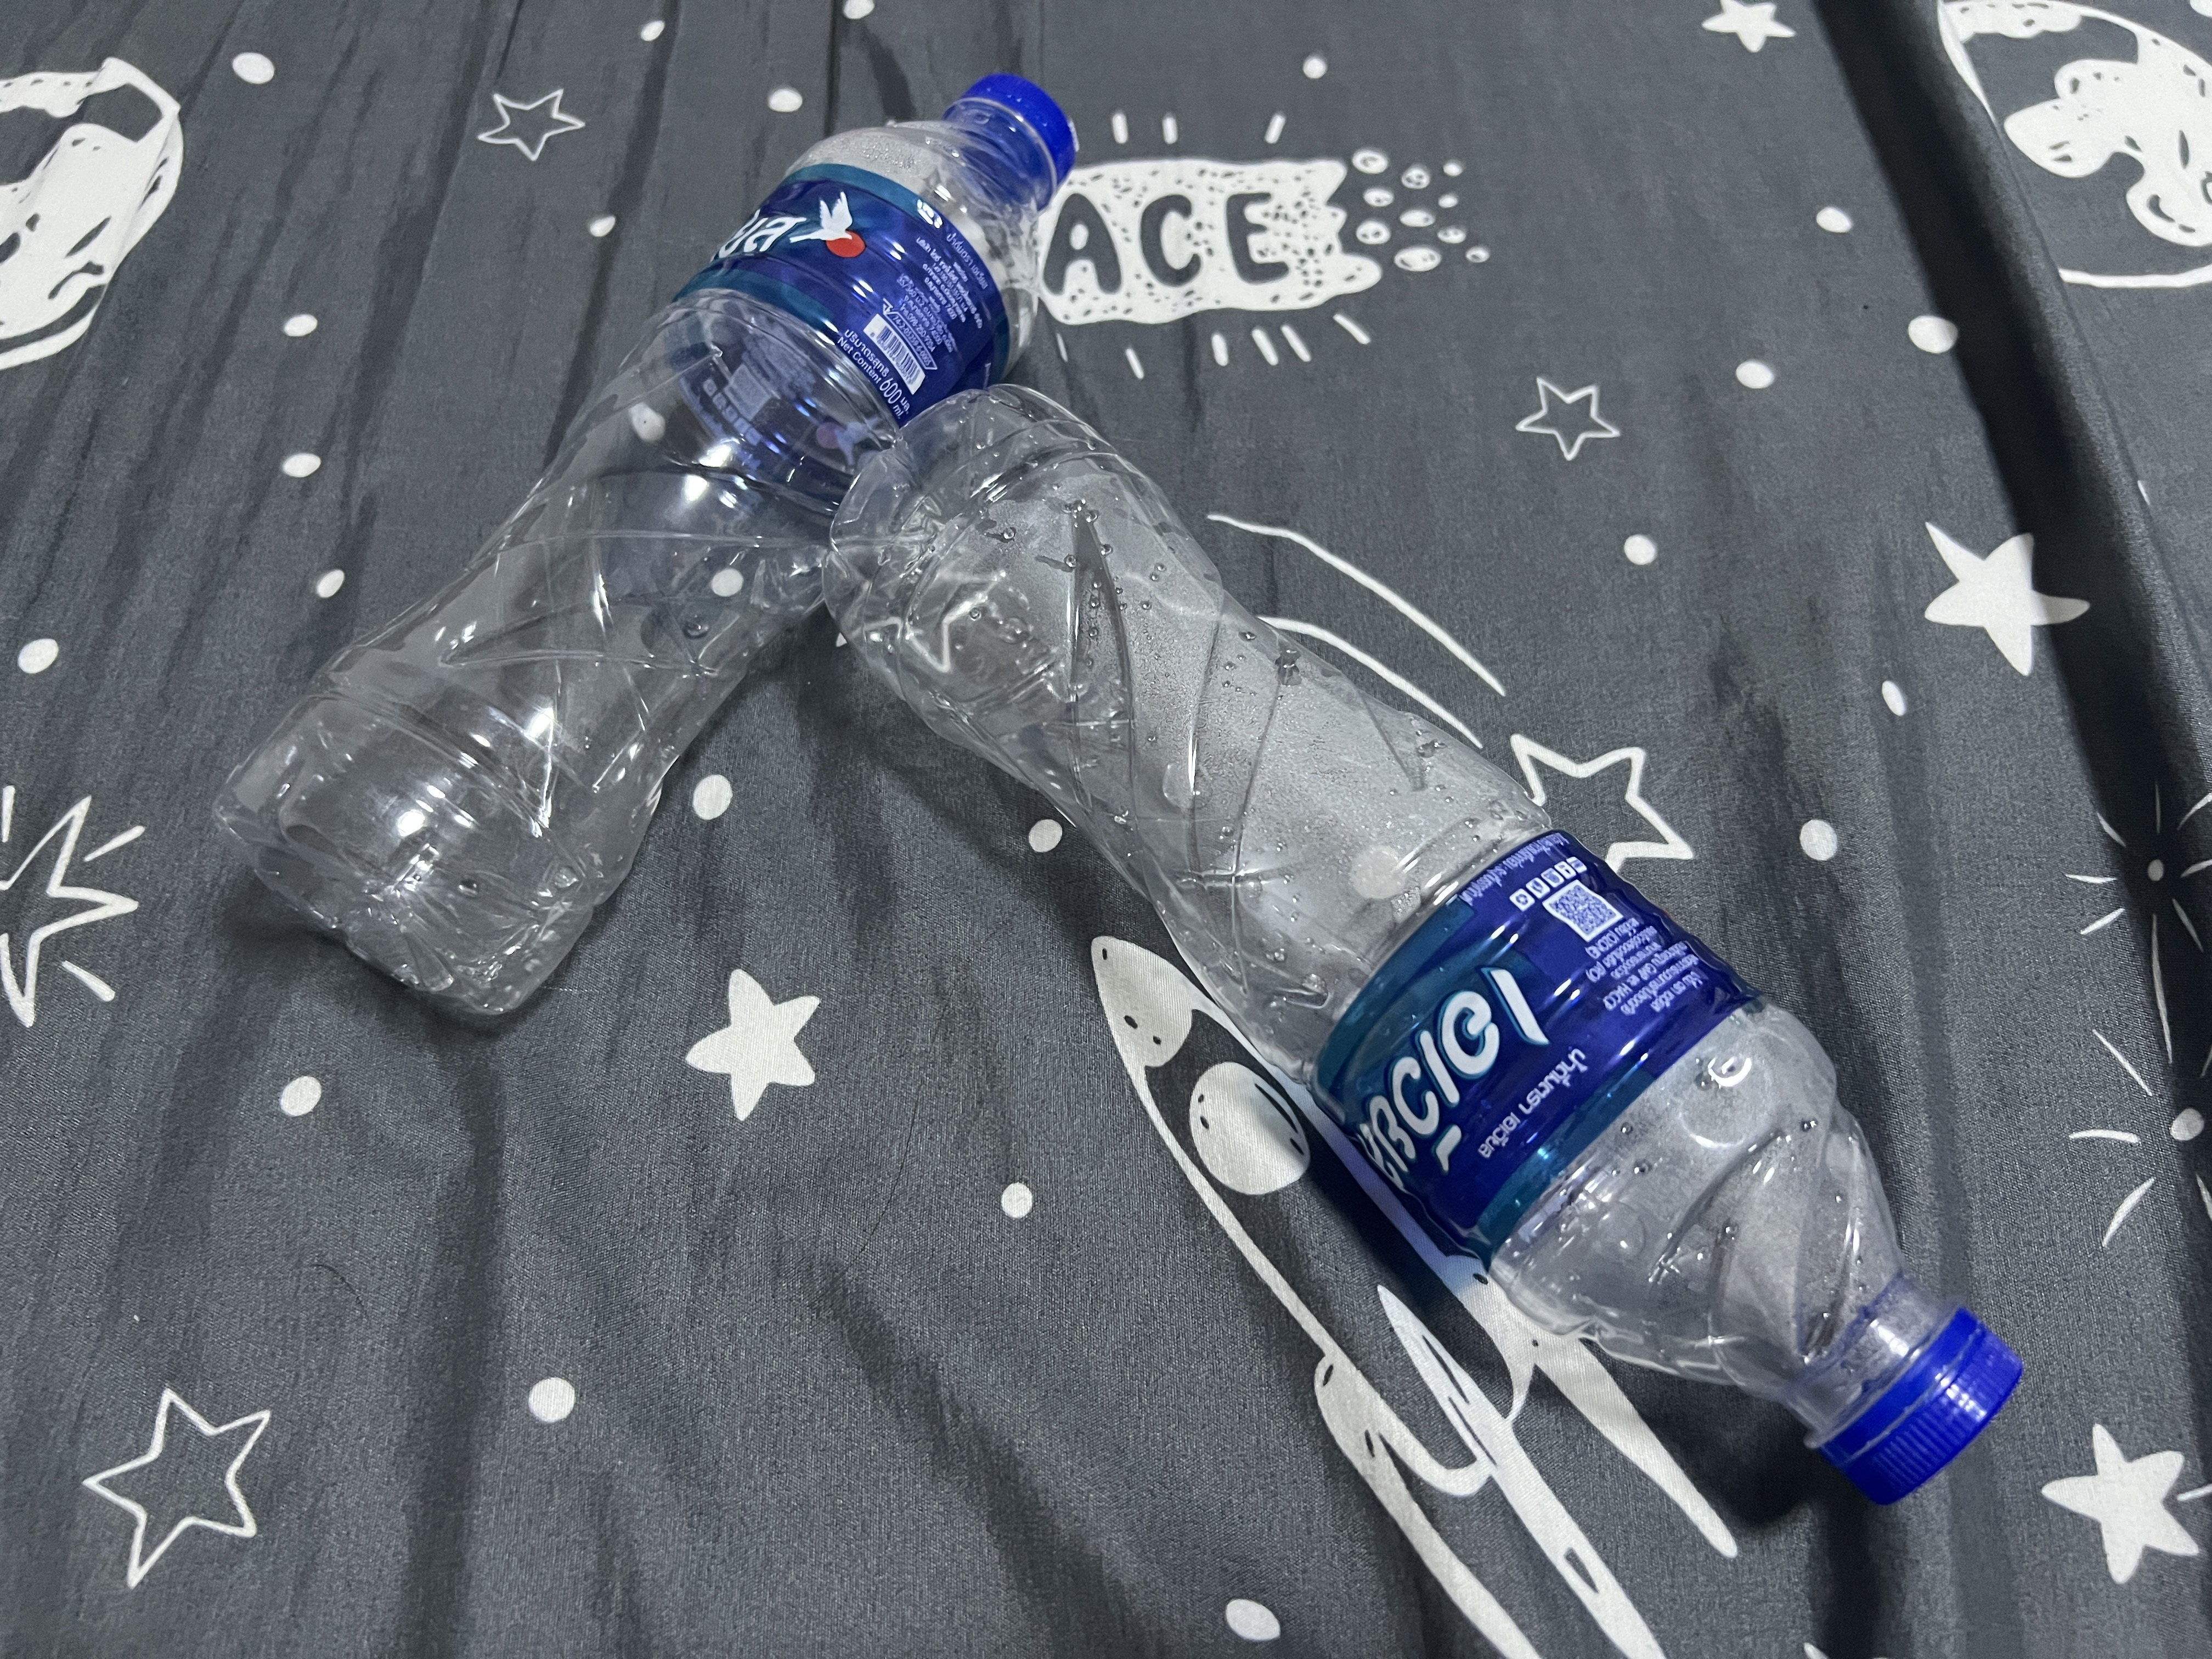plastic_bottle: (822, 361, 2034, 1544), (221, 70, 1092, 1033)
